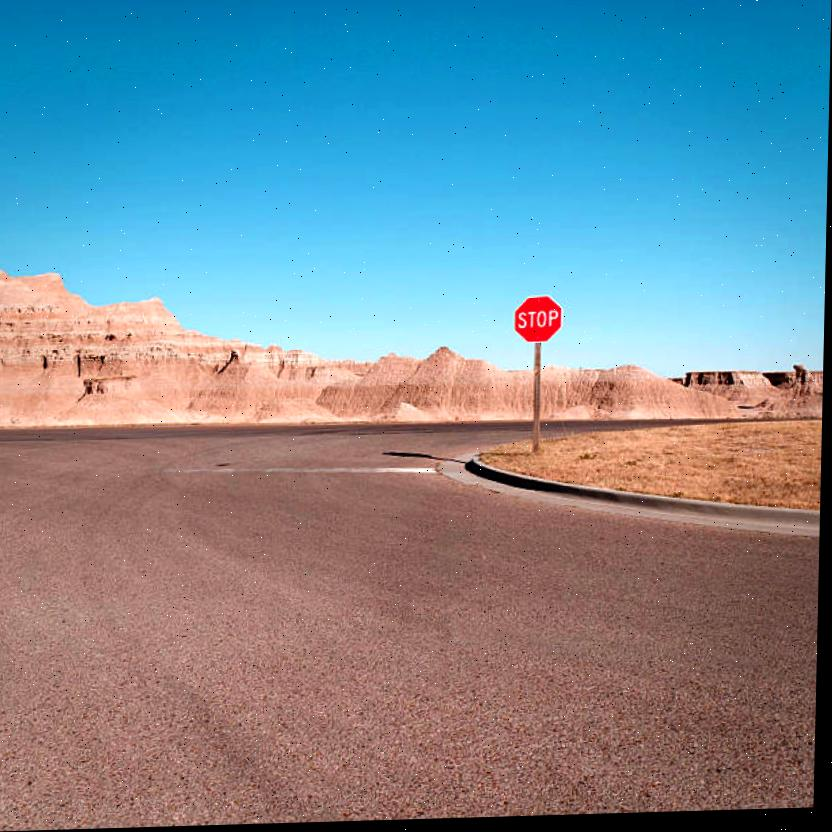Pole: (534, 346, 544, 454)
Sign: (517, 300, 565, 347)
